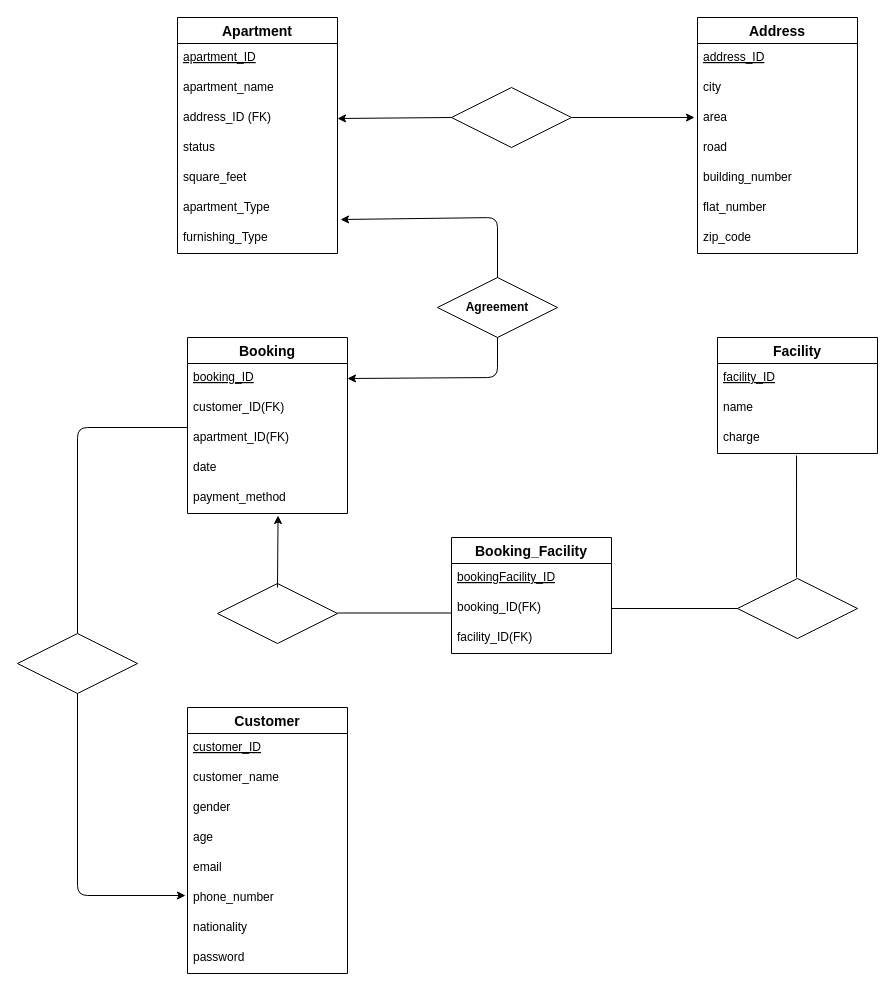
The diagram is 895 pixels wide and 994 high, and some of its shapes have lost their labels. Here are the shapes that lost their labels. From the top down, the box of each, then its label:
(450, 86, 572, 148): Apartment_INFO
(216, 582, 338, 644): Reservation
(736, 578, 858, 638): Service
(16, 632, 138, 694): Contract
